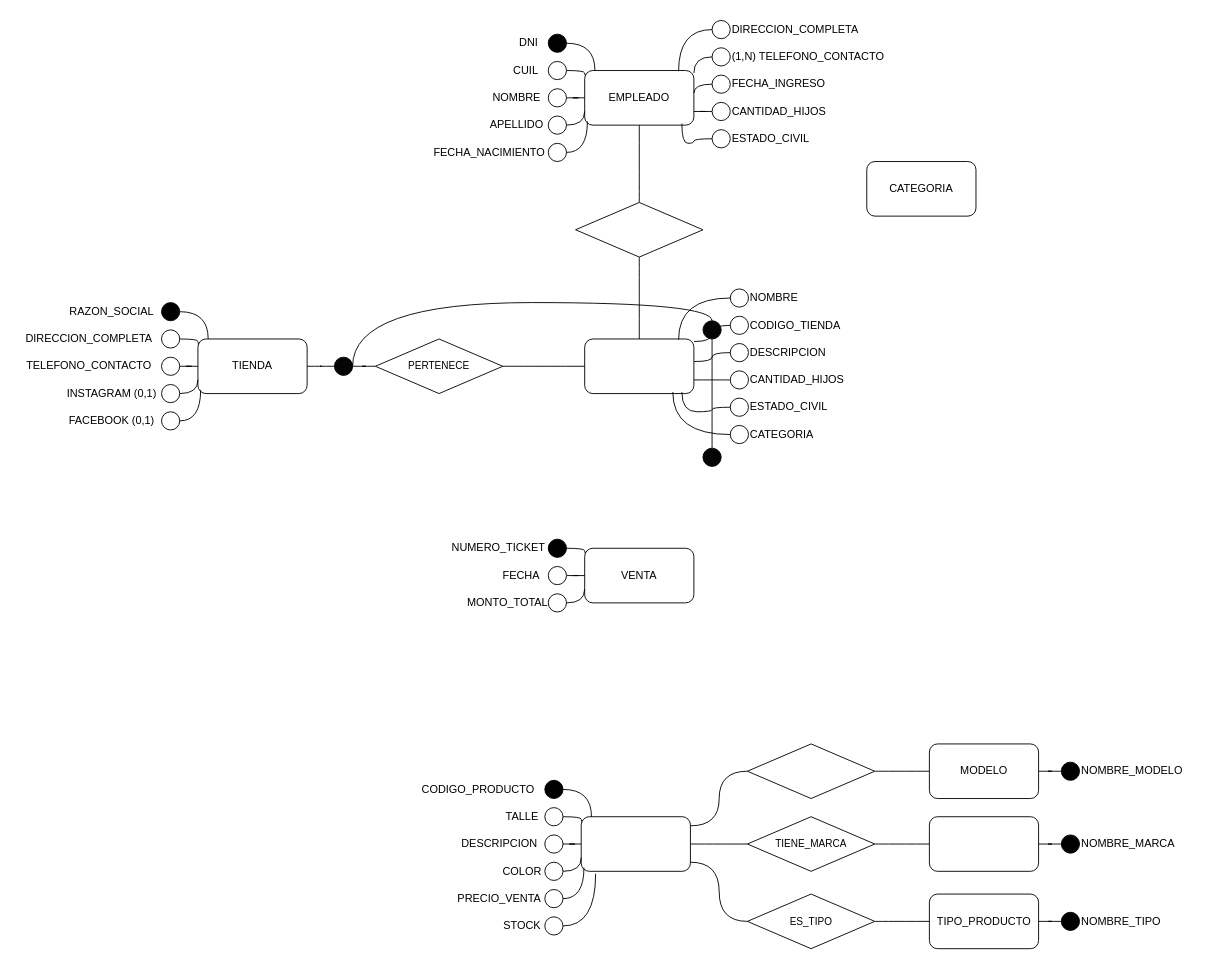
This 1213x965 diagram has some shape labels left out. Each missing label, with the centre of its shape:
"MARCA" goes at point 983,843.
"PRODUCTO" goes at point 635,843.
"SECTOR" goes at point 639,366.
"TIENE_MODELO" goes at point 810,771.
"TRABAJA_EN" goes at point 639,229.
